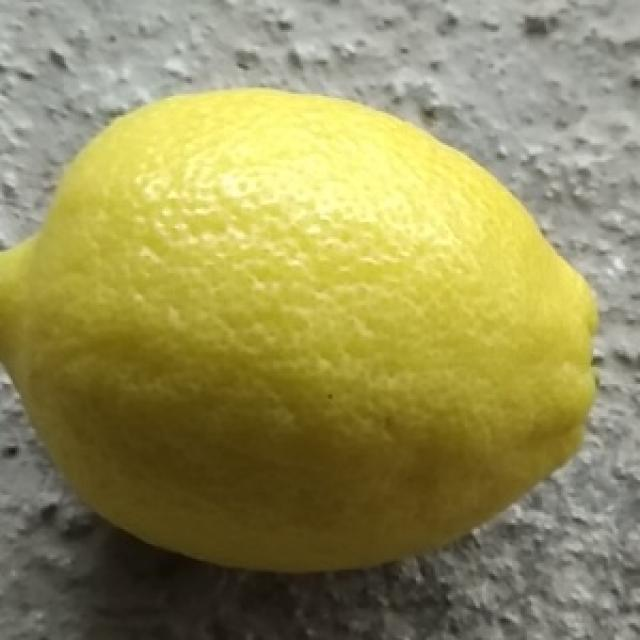Ripe: (4, 78, 606, 583)
